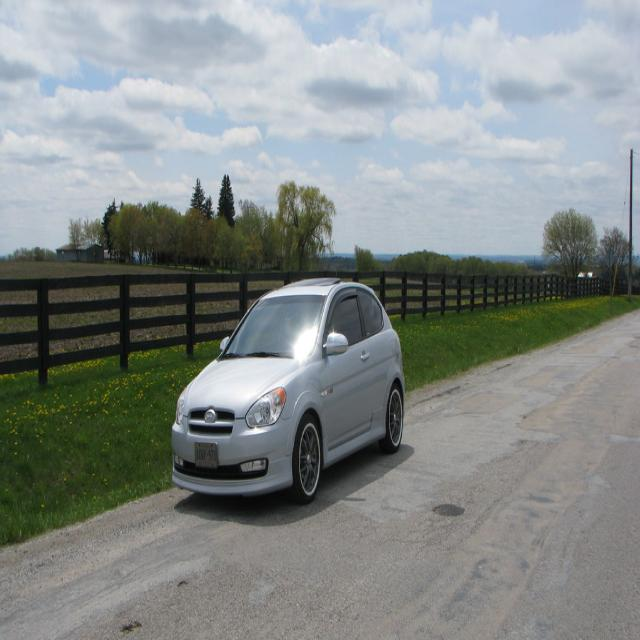car: (164, 266, 411, 504)
